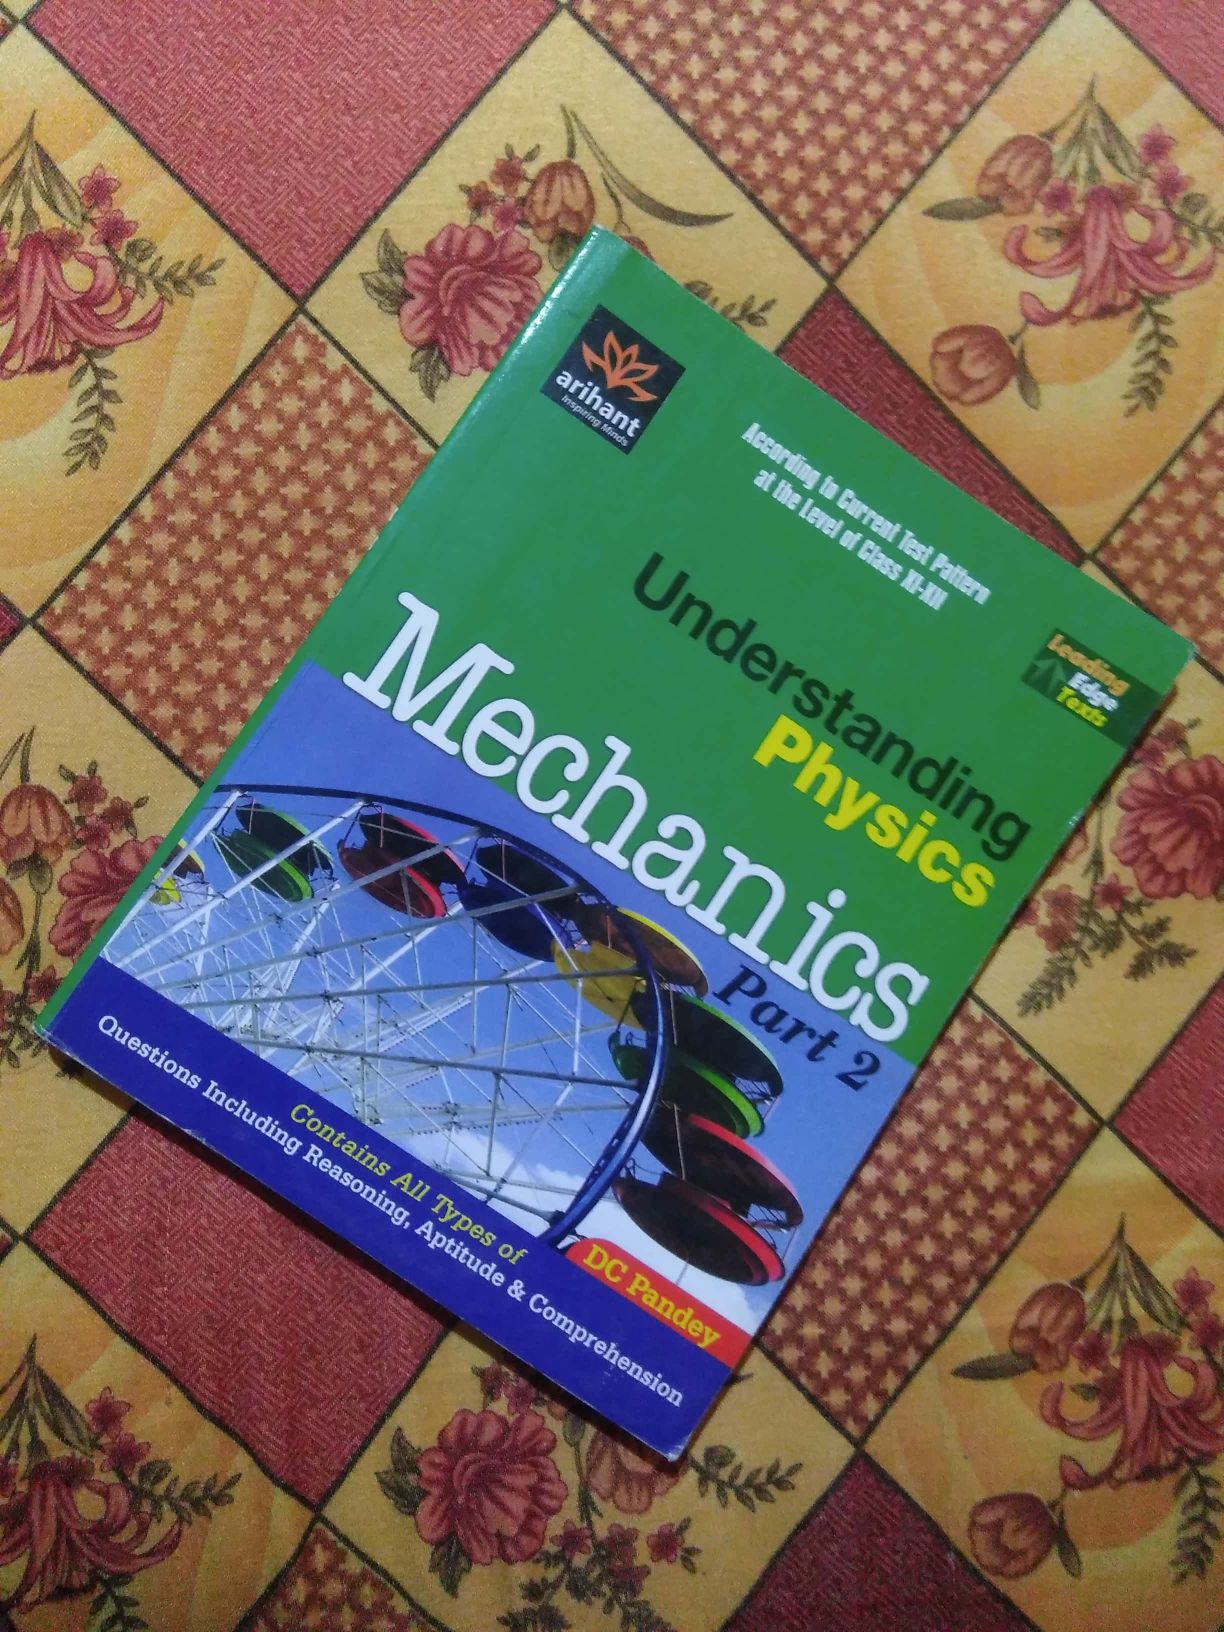mechanics: (96, 270, 1110, 1349)
